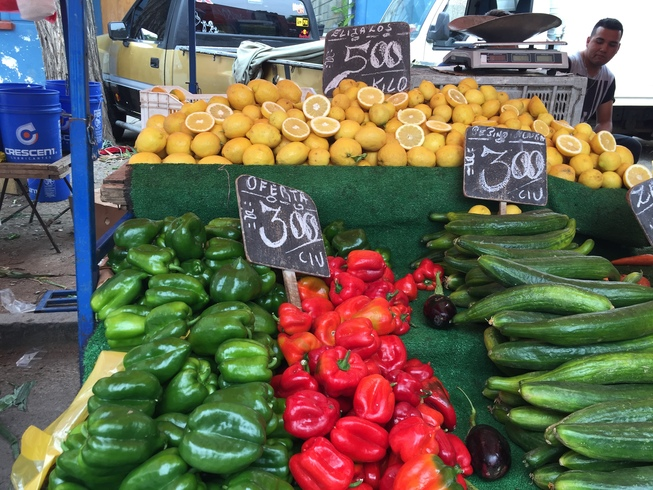precio: (230, 170, 337, 283), (454, 115, 559, 218), (319, 12, 418, 110), (620, 171, 653, 262)
